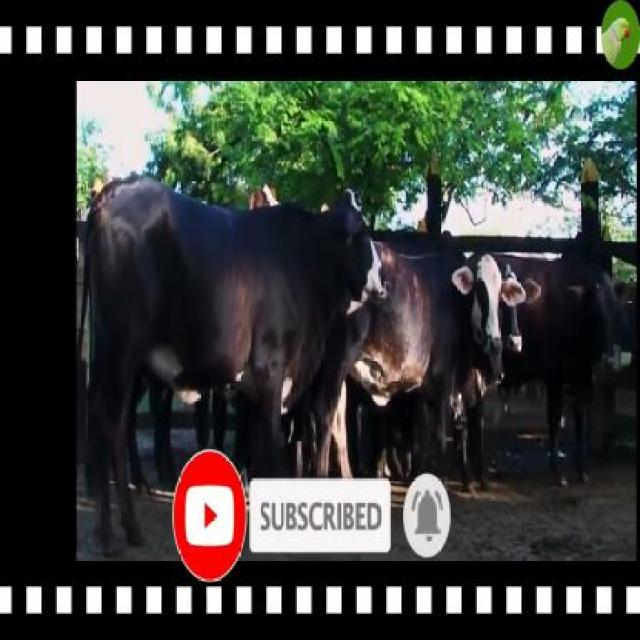Cow: (86, 183, 383, 485)
